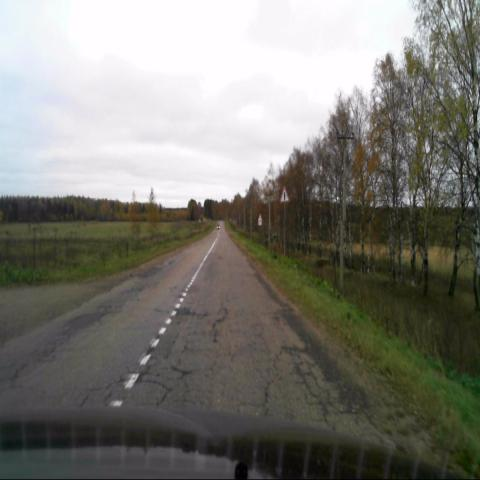2_3_2: (279, 187, 290, 203)
